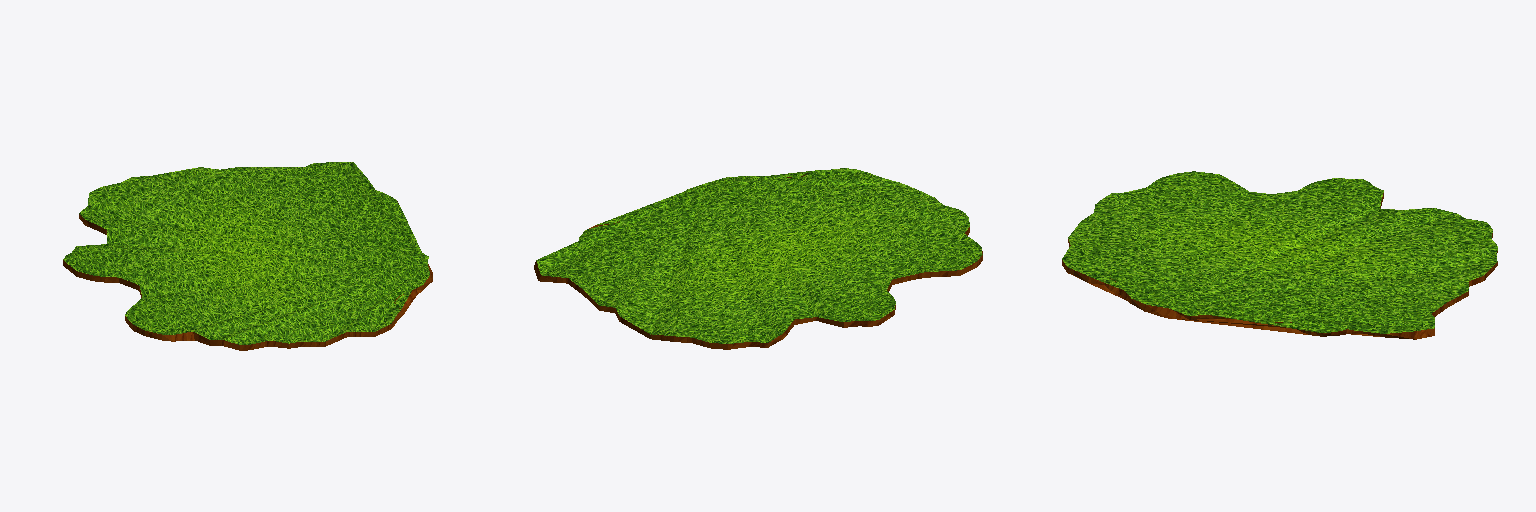
The picture shows the model from 3 angles: view 1: azimuth 30°, elevation 25°; view 2: azimuth 150°, elevation 25°; view 3: azimuth 270°, elevation 25°; orthographic projection.
Parts seen in each view (by area): view 1: Plane_Material.002, Plane_Material.003; view 2: Plane_Material.002, Plane_Material.003; view 3: Plane_Material.002, Plane_Material.003.
Boxes of the visible parts, x1,y1,x2,y2 form: Plane_Material.002: [63, 162, 429, 344]; Plane_Material.003: [63, 201, 432, 350]; Plane_Material.002: [536, 168, 982, 343]; Plane_Material.003: [534, 173, 982, 349]; Plane_Material.002: [1062, 171, 1497, 333]; Plane_Material.003: [1062, 193, 1497, 339].
Bounding box in the file's own units: 78.08 × 2.66 × 88.58.
2 materials, 2 textured.